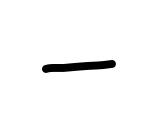minus: (42, 60, 116, 73)
